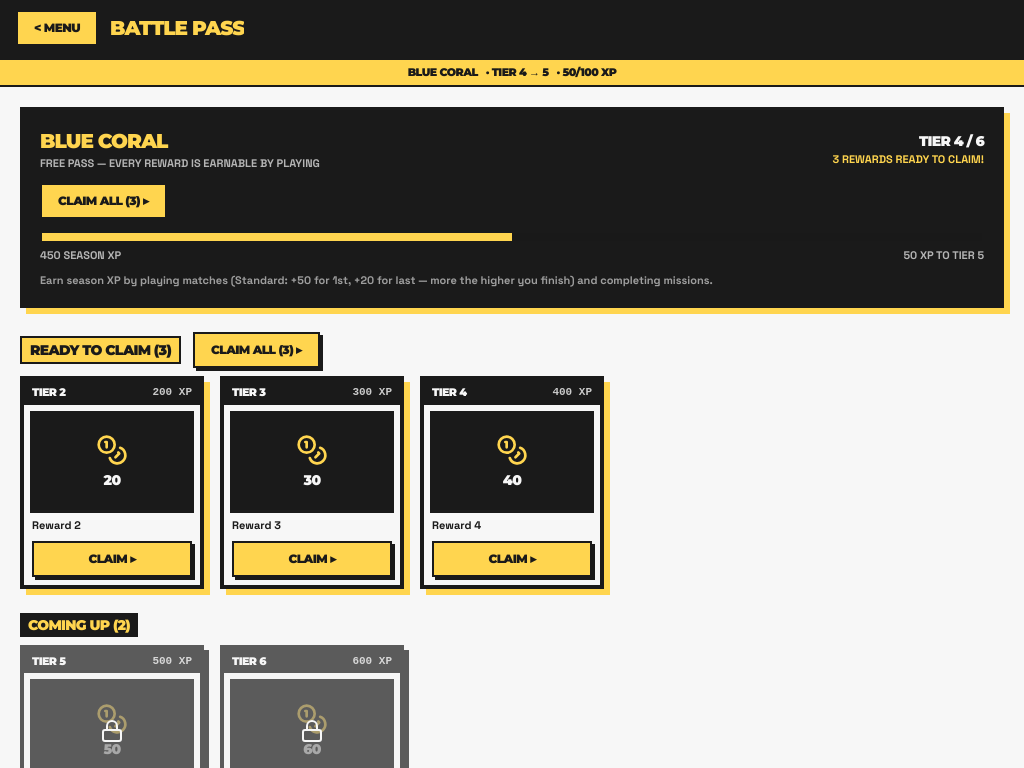
Test: CLAIM ALL › claims every ready tier in order and refreshes once
Click the 1st button "CLAIM ALL (3) ▸".
click(103, 201)  # box [40,183,166,219]
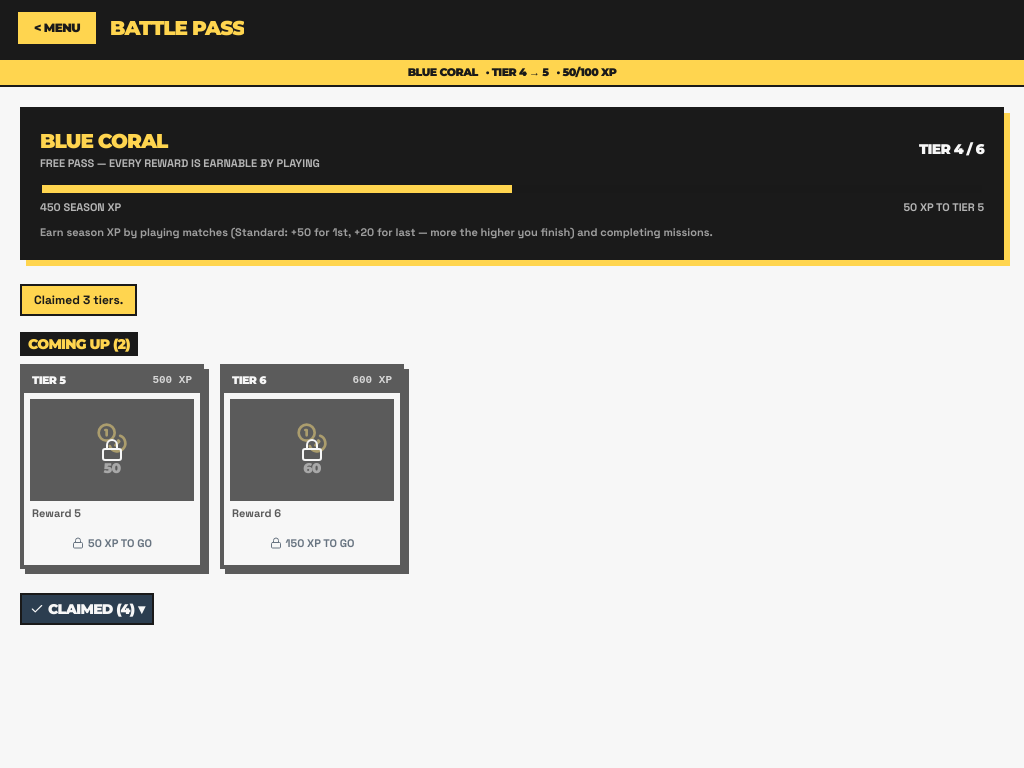
Expected: the text "Claimed 3 tiers." is shown, [20,284,137,316]
Expected: the text "READY TO CLAIM" is gone
